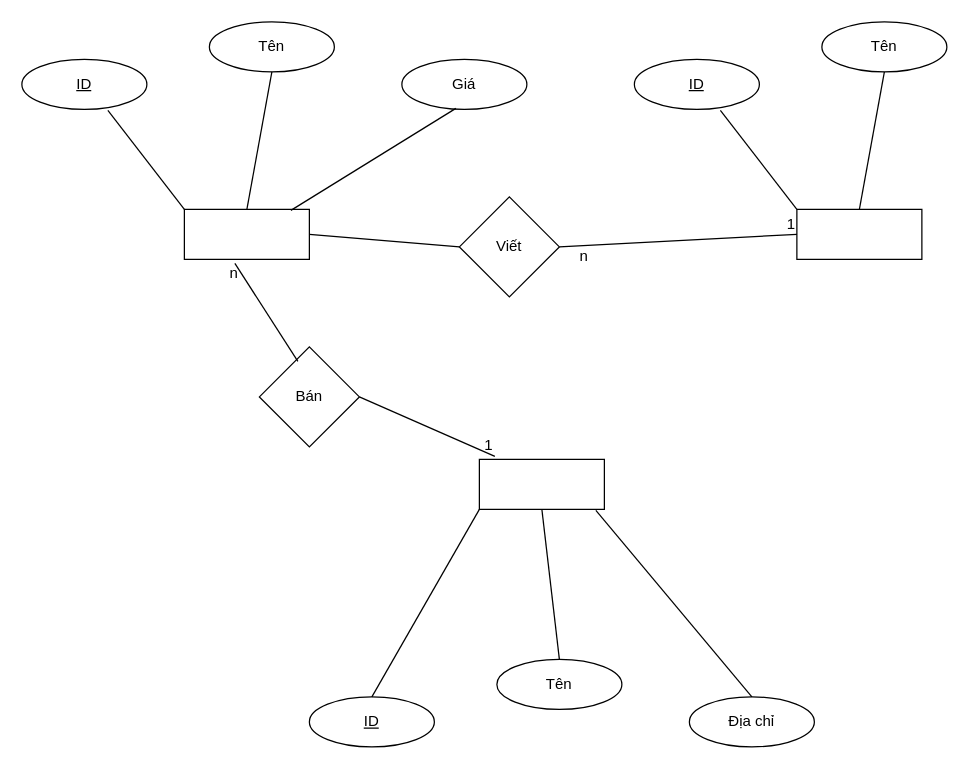
Image size: 969x769. Some labels were removed from this diagram. Here are the shapes that lost their labels. From the top down, the box of each, then its label:
(183, 208, 309, 259): Sách
(796, 208, 922, 259): Tác giả
(478, 458, 604, 509): Nhân Viên
